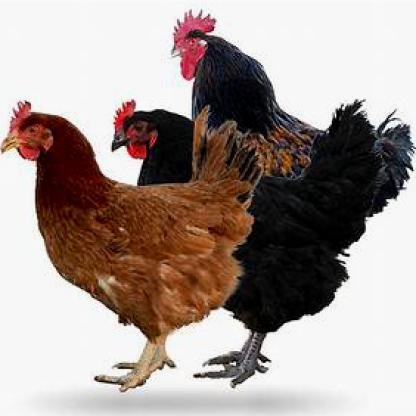chicken: (110, 98, 384, 390), (2, 99, 264, 392), (168, 7, 415, 219)
